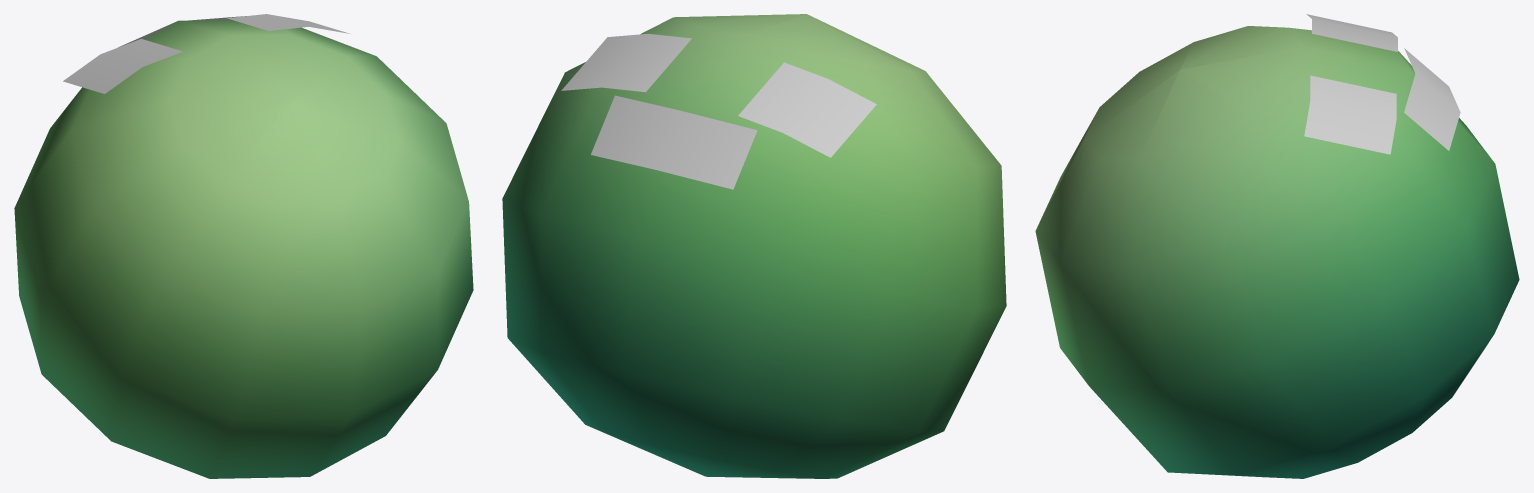
Rendered from pea_smile.fbx.
The picture shows the model from 3 angles, left to right: view 1: azimuth 30°, elevation 25°; view 2: azimuth 150°, elevation 25°; view 3: azimuth 270°, elevation 25°; orthographic projection. The views are drawn at different scales.
Visible parts, largest first — view 1: pea, smile_pea; view 2: pea, smile_pea; view 3: pea, smile_pea.
Boxes of the visible parts, bbox=[...] form: pea: bbox=[14, 19, 473, 478]; smile_pea: bbox=[63, 14, 350, 93]; pea: bbox=[502, 14, 1006, 478]; smile_pea: bbox=[561, 33, 876, 189]; pea: bbox=[1035, 26, 1519, 478]; smile_pea: bbox=[1304, 14, 1460, 154].
Bounding box in the file's own units: 24.92 × 23.53 × 25.11.
